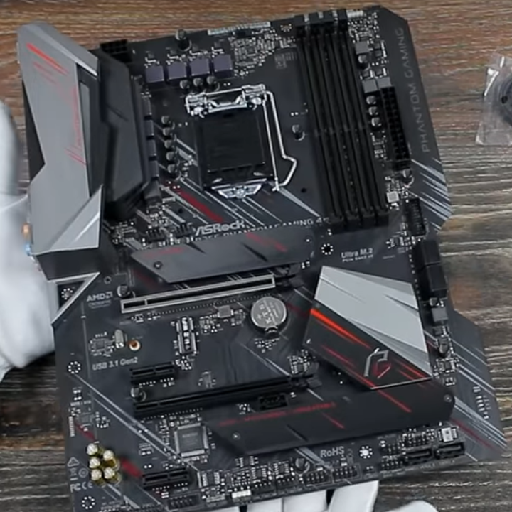CPU: (168, 74, 305, 193)
GPU: (130, 362, 325, 419), (117, 260, 308, 318)
MOTHERBOARD: (13, 4, 495, 505)
RAM: (282, 7, 399, 232)
SSD: (168, 311, 206, 362)
